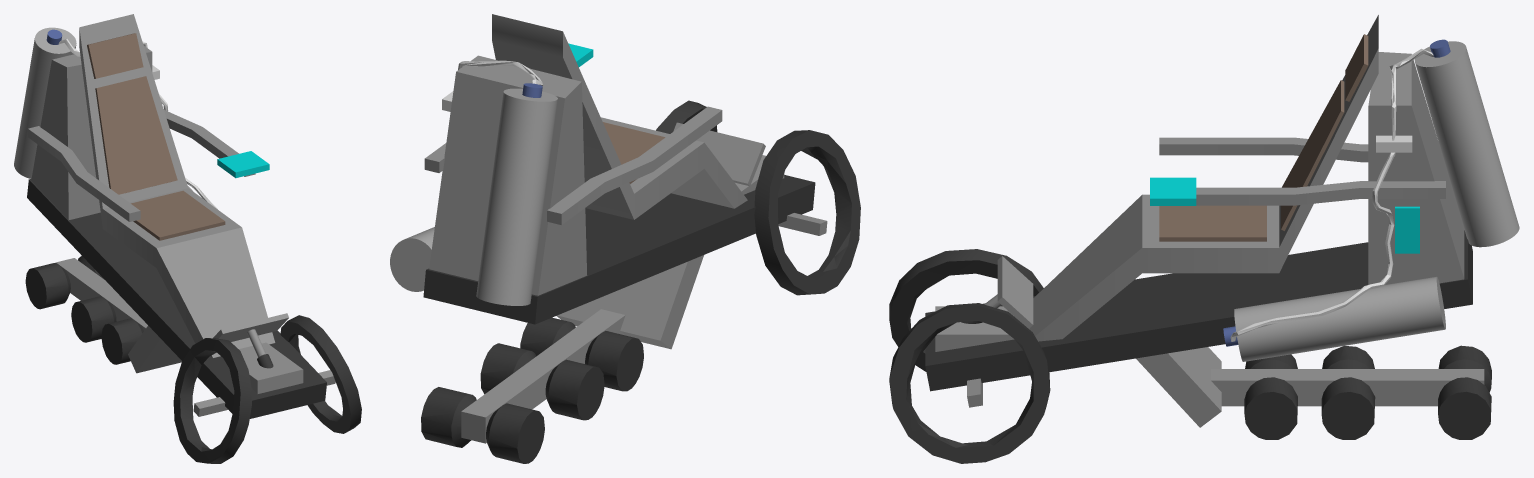
Rendered from WheelCahir 1.fbx.
3 views of the same model, side by side, from view 1: azimuth 30°, elevation 25°; view 2: azimuth 150°, elevation 25°; view 3: azimuth 270°, elevation 25° (orthographic). The views are drawn at different scales.
Visible parts, largest first — view 1: PM3D_Plane3D193_081; view 2: PM3D_Plane3D193_081; view 3: PM3D_Plane3D193_081.
Part boxes in pixels (<box>): PM3D_Plane3D193_081: <box>14,14,361,463</box>; PM3D_Plane3D193_081: <box>390,14,860,463</box>; PM3D_Plane3D193_081: <box>889,15,1519,463</box>.
Bounding box in the file's own units: 81.53 × 153 × 223.
